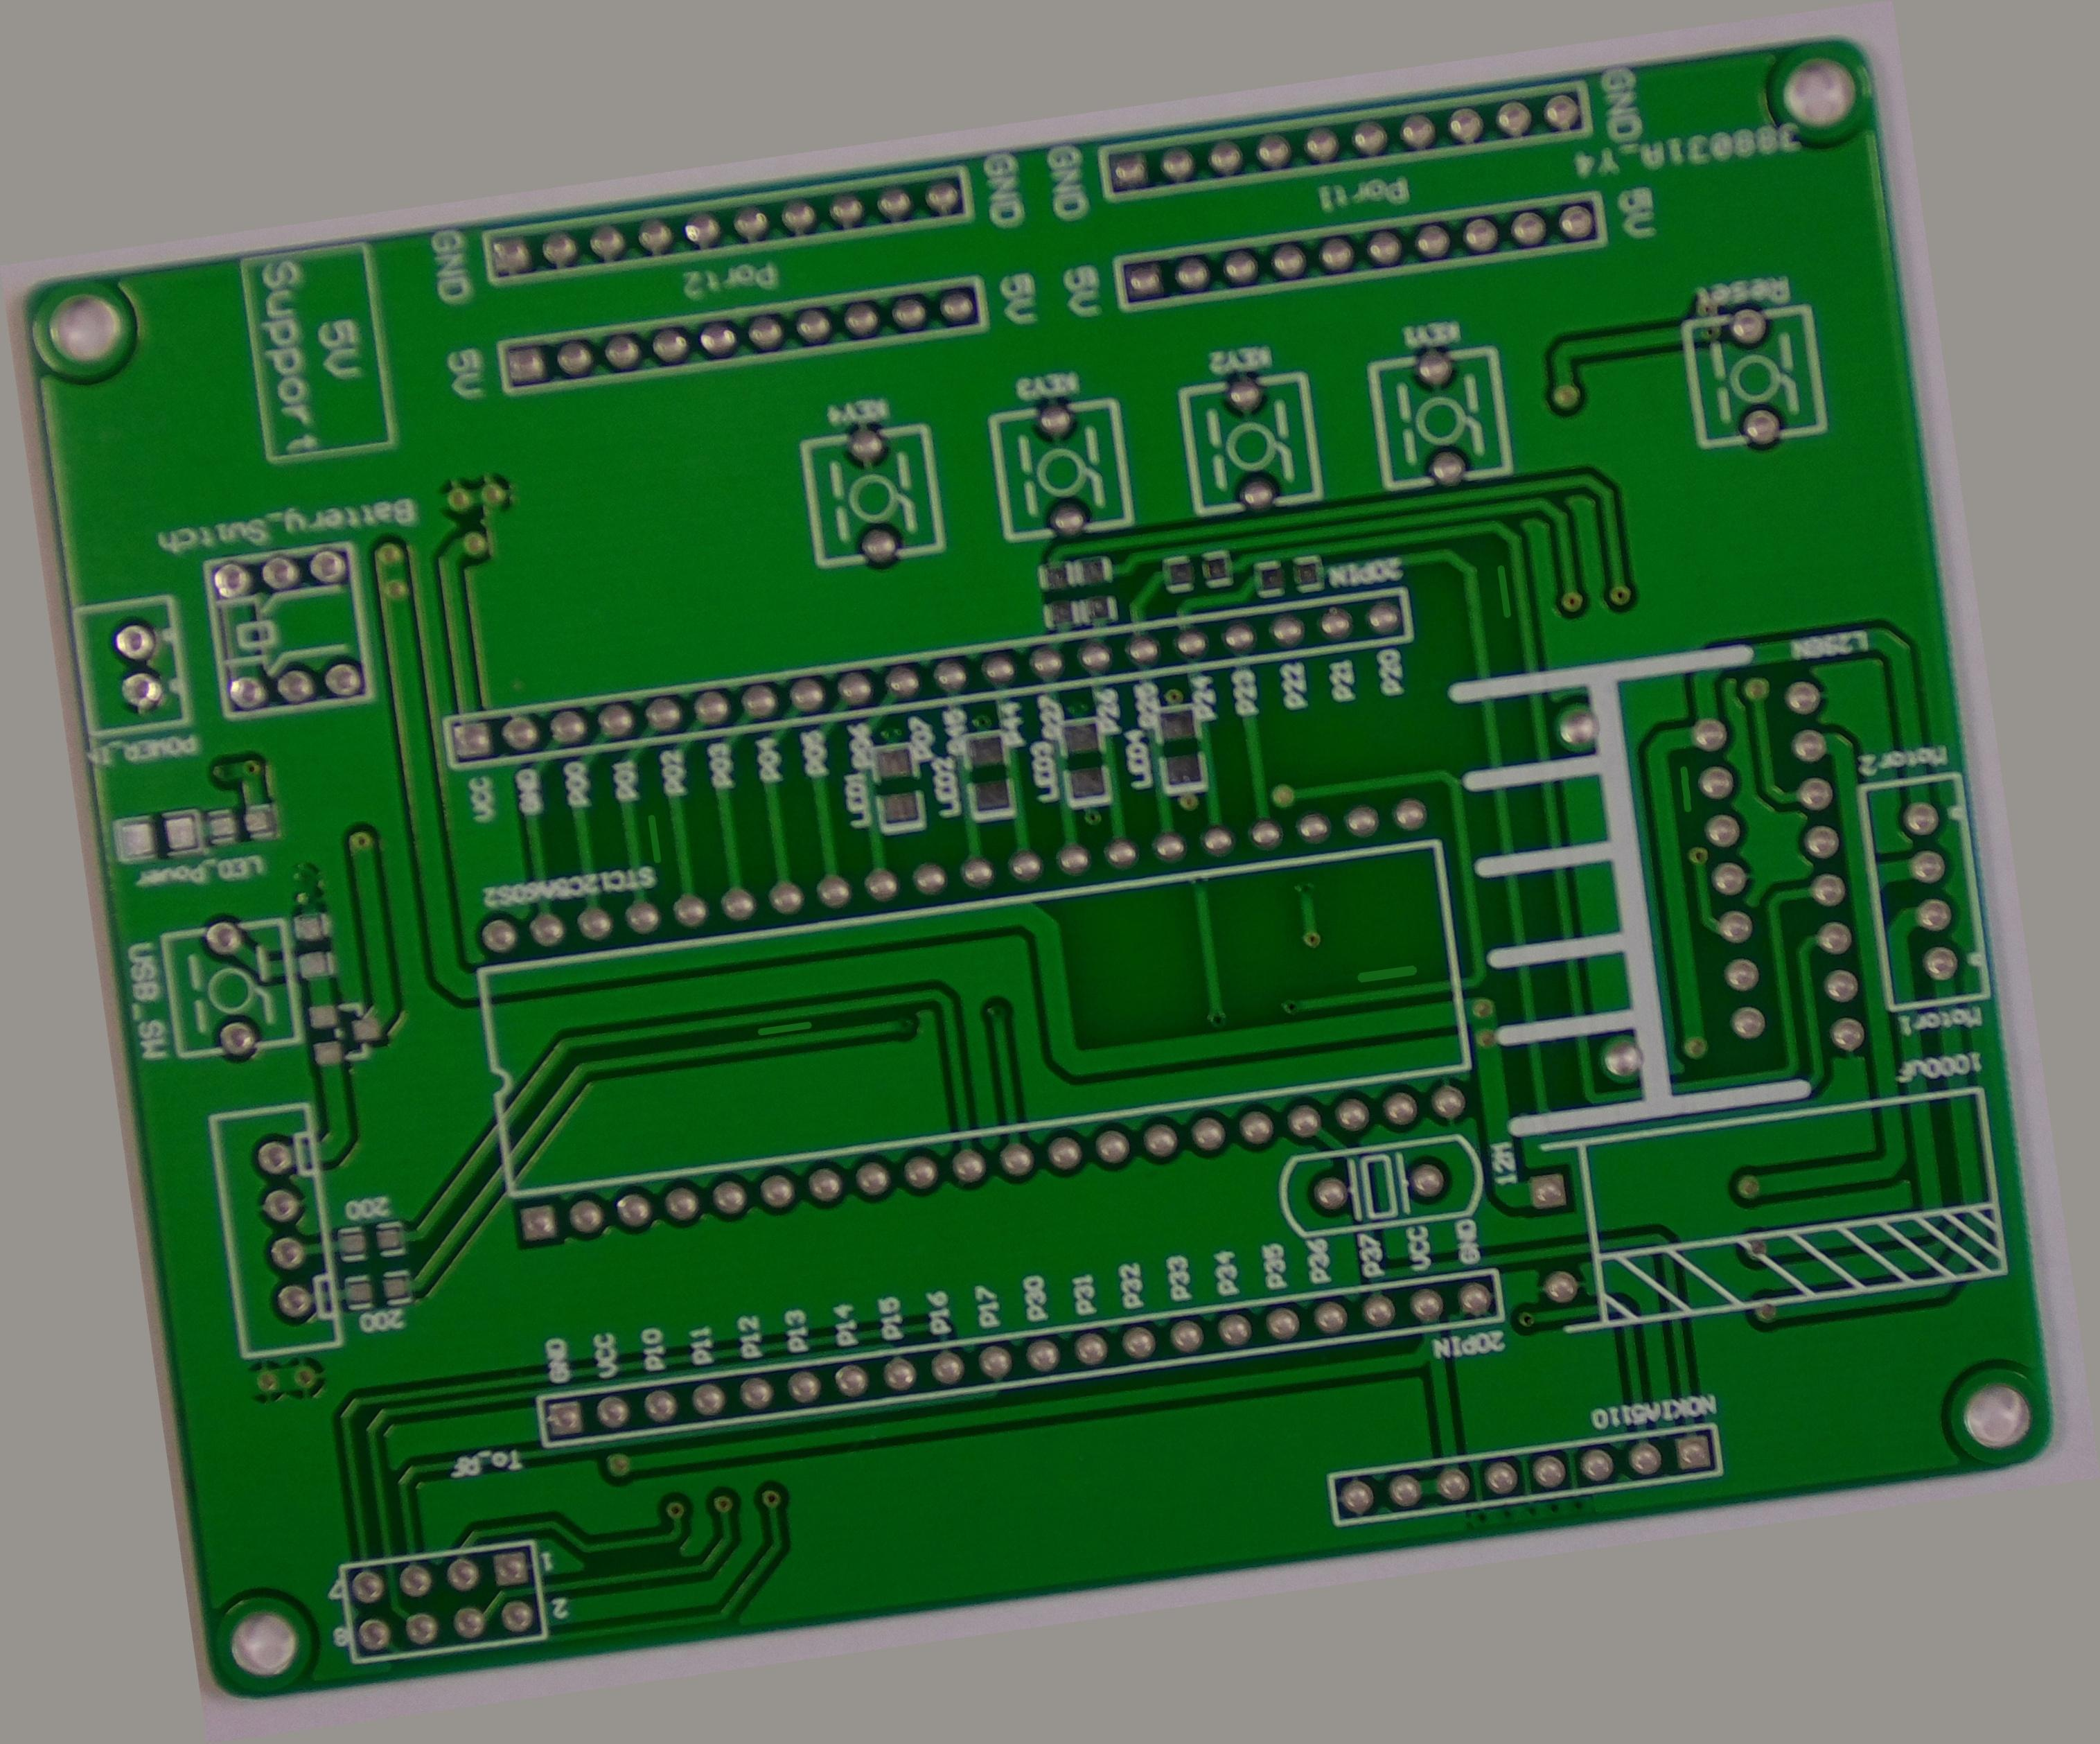spurious_copper: (1352, 1024, 1451, 1064), (605, 722, 642, 811), (696, 992, 776, 1032), (1737, 832, 1772, 916), (1570, 579, 1605, 663)
